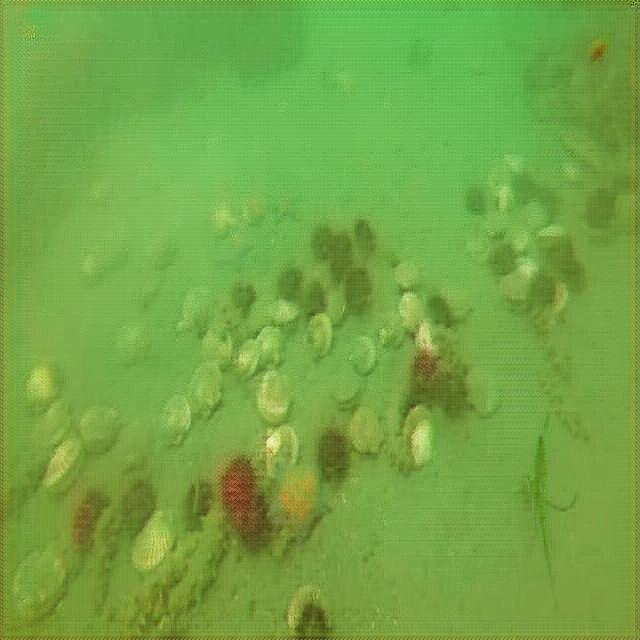echinus: (313, 417, 351, 488), (232, 490, 270, 558), (431, 364, 471, 424), (220, 450, 256, 516), (71, 485, 104, 553), (121, 476, 157, 537), (182, 479, 214, 540), (407, 343, 441, 398), (293, 591, 331, 640), (399, 372, 431, 424), (343, 266, 373, 316), (586, 185, 613, 234), (276, 259, 303, 308), (327, 232, 351, 284), (536, 182, 564, 224), (548, 232, 574, 276), (230, 280, 257, 322), (353, 213, 377, 259), (426, 289, 452, 330), (510, 168, 534, 210), (490, 240, 516, 278), (562, 256, 586, 297), (310, 220, 334, 260), (462, 180, 487, 218), (529, 270, 554, 307), (302, 280, 326, 318), (190, 306, 212, 342)
holothurian: (159, 499, 226, 640), (117, 532, 194, 638), (81, 504, 119, 616), (0, 444, 52, 515), (134, 272, 164, 310)
scallop: (12, 544, 68, 624), (130, 511, 178, 574), (43, 435, 85, 504), (399, 406, 439, 474), (187, 356, 225, 426), (155, 387, 193, 455), (257, 360, 294, 427), (74, 406, 124, 454), (346, 402, 386, 462), (464, 360, 504, 420), (264, 419, 300, 482), (114, 313, 153, 371), (23, 357, 63, 413), (178, 278, 214, 337), (286, 584, 324, 634), (200, 318, 233, 371), (503, 259, 538, 307), (412, 312, 444, 361), (396, 286, 426, 338), (255, 326, 289, 370), (329, 360, 359, 408), (347, 330, 377, 376), (305, 314, 333, 360), (211, 198, 240, 242), (391, 256, 422, 294), (234, 337, 260, 379), (534, 220, 572, 248), (242, 190, 268, 229), (324, 289, 350, 326), (270, 299, 300, 327), (504, 220, 530, 252), (552, 278, 569, 322)
starfish: (264, 458, 335, 545), (211, 237, 256, 272), (266, 185, 300, 227)
